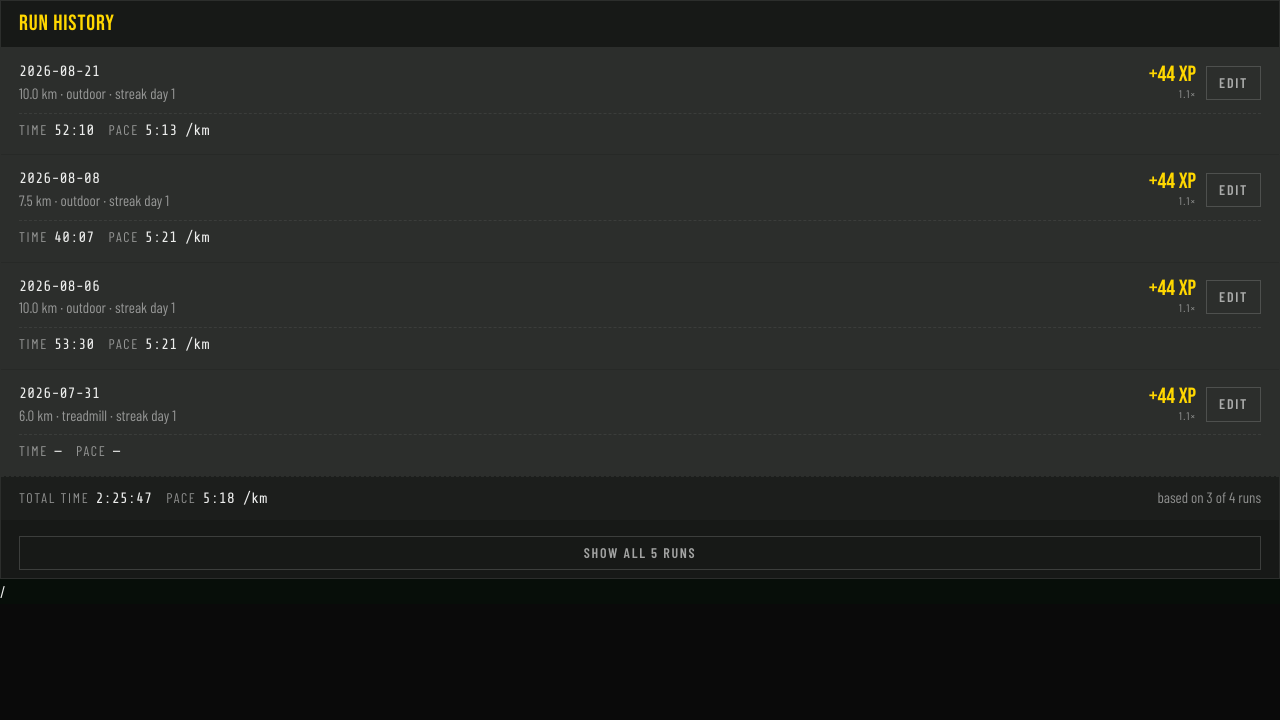
Test case: run history summary › run history summary shows based on N of M runs only when some runs lack time
Expected: the text "based on 3 of 4 runs" is shown, [1157,487,1261,509]
Click the button "Show all 5 runs": coordinates (640, 553) [19,536,1261,570]
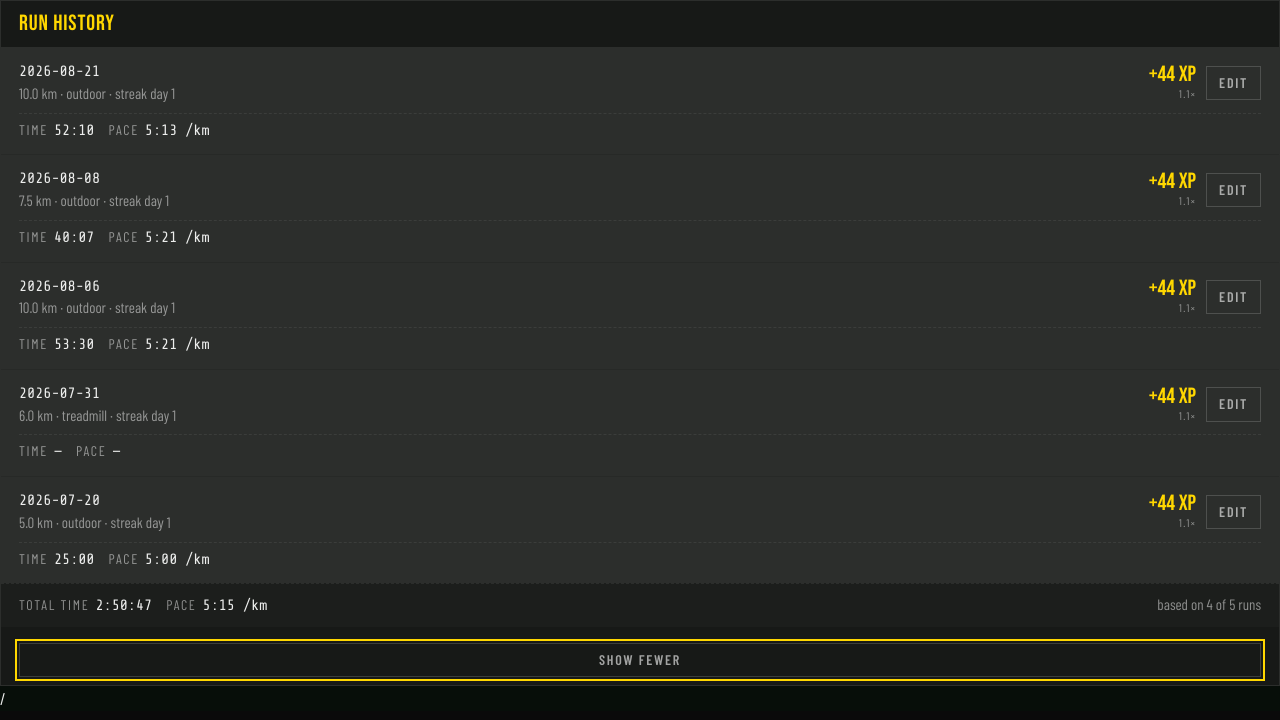
Result: the text "based on 4 of 5 runs" is shown at [1157,594,1261,616]
